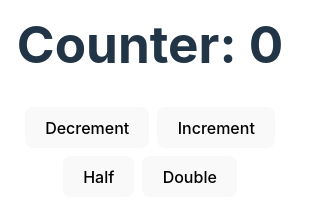
Scenario: Component: Counter › should increment the counter correctly
expect the heading with test id "counter" reads "Counter: 0": met, box x1=17 y1=16 x2=283 y2=73
Click the button with test id "increment-button" at coordinates (216, 128), box x1=158 y1=107 x2=275 y2=148
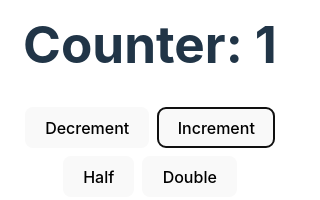
expect the heading with test id "counter" reads "Counter: 1": met, box x1=23 y1=16 x2=277 y2=73
